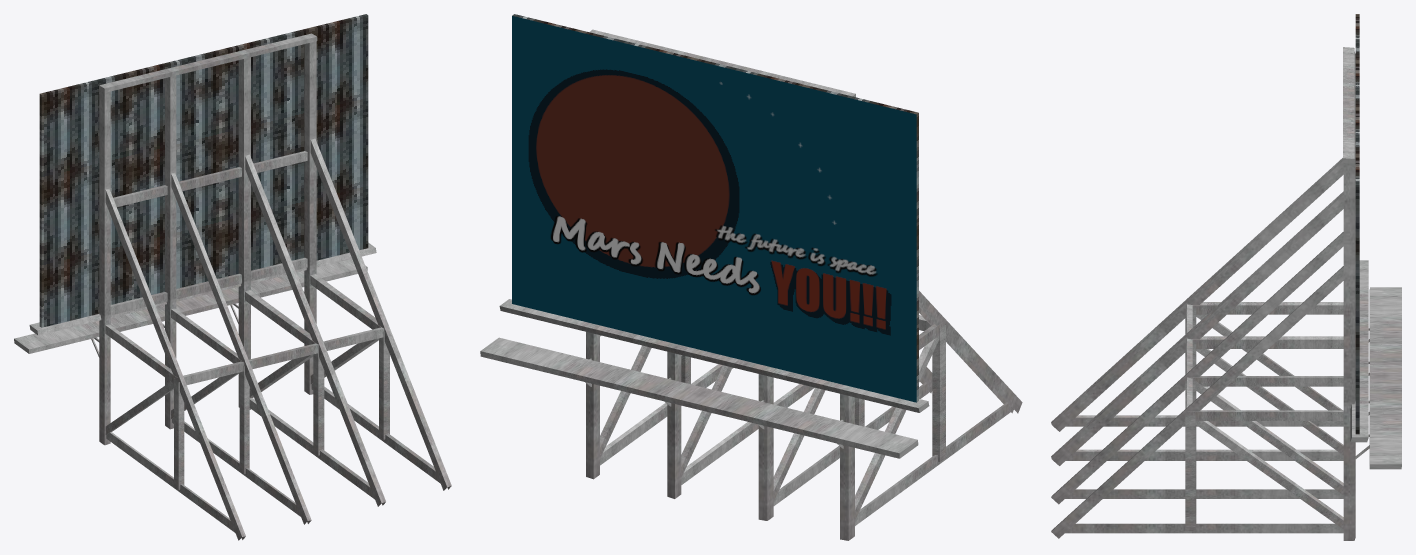
The model's file is Posters.fbx.
3 views of the same model, side by side, from view 1: azimuth 30°, elevation 25°; view 2: azimuth 150°, elevation 25°; view 3: azimuth 270°, elevation 25° (orthographic). The views are drawn at different scales.
Parts seen in each view (by area): view 1: Cube.018; view 2: Cube.018; view 3: Cube.018.
Boxes of the visible parts, x1,y1,x2,y2 form: Cube.018: (14, 14, 451, 540); Cube.018: (480, 14, 1022, 540); Cube.018: (1051, 14, 1401, 540).
Bounding box in the file's own units: 642 × 653 × 538.
